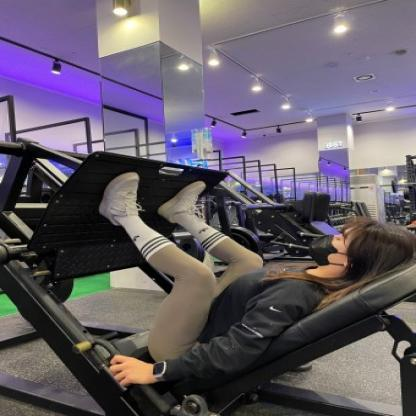leg press: (0, 107, 416, 416)
